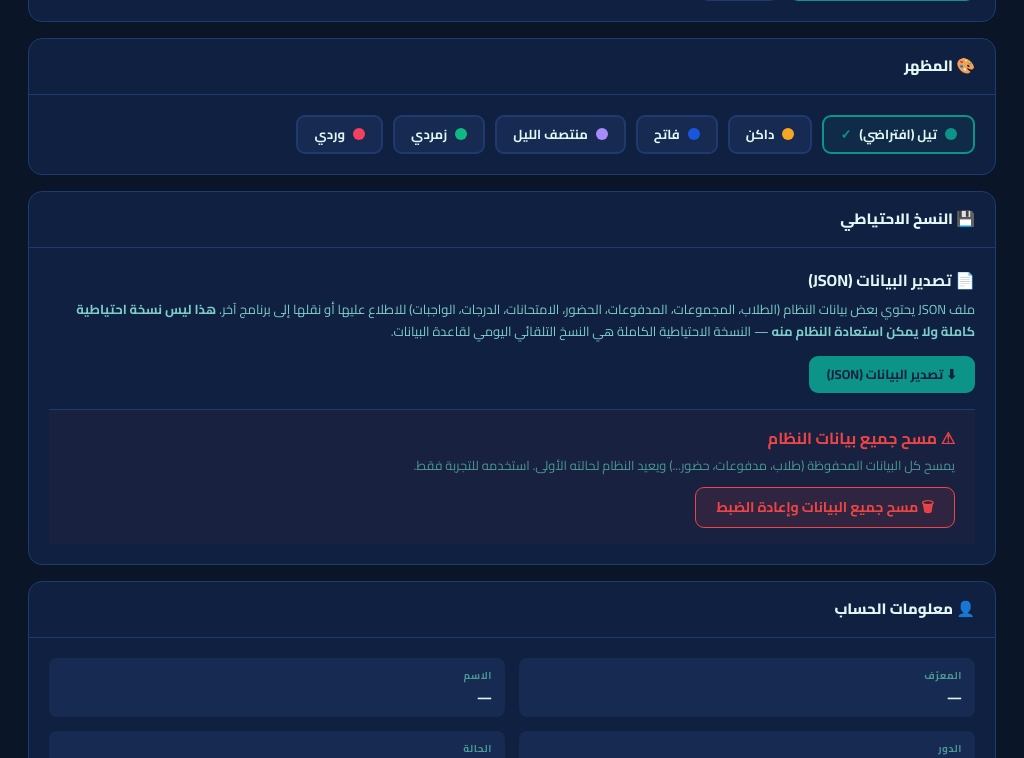
Test: SettingsPage — Export Backup (async, fetches payments fresh) › export failure shows an error toast, downloads nothing, and leaves the button usable again
(page scrolled)
Click the button "⬇ تصدير البيانات (JSON)".
click(892, 374)  # box x1=809 y1=356 x2=975 y2=393
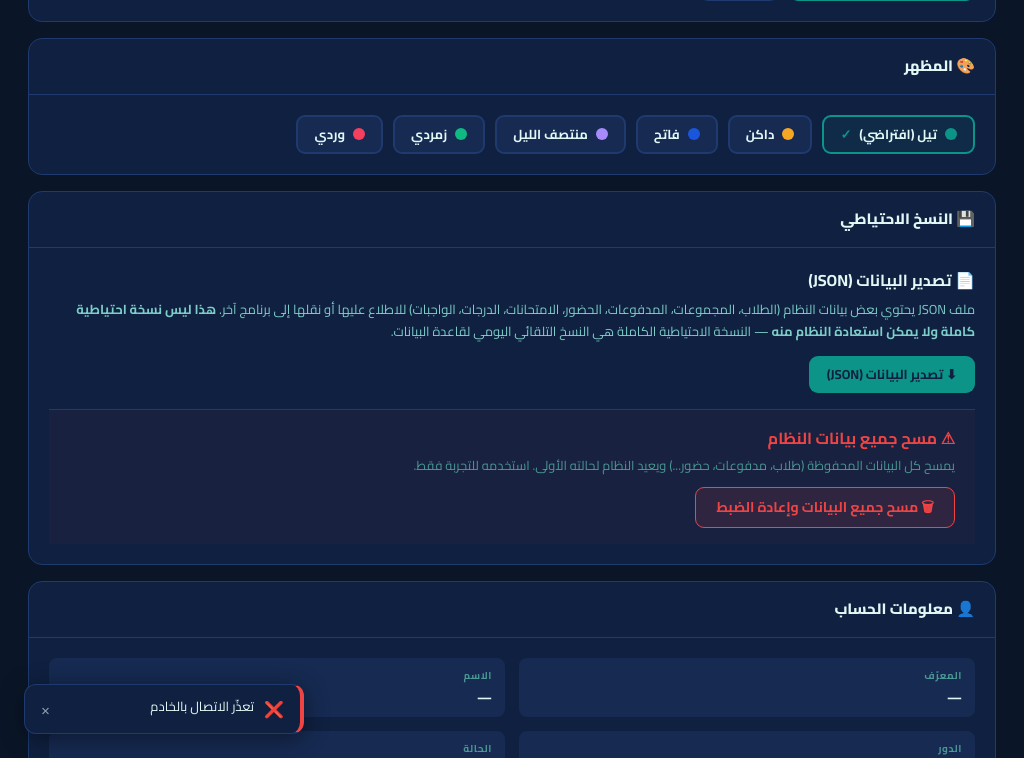
expect the text "تعذّر الاتصال بالخادم" is shown: met, box x1=150 y1=694 x2=254 y2=718
